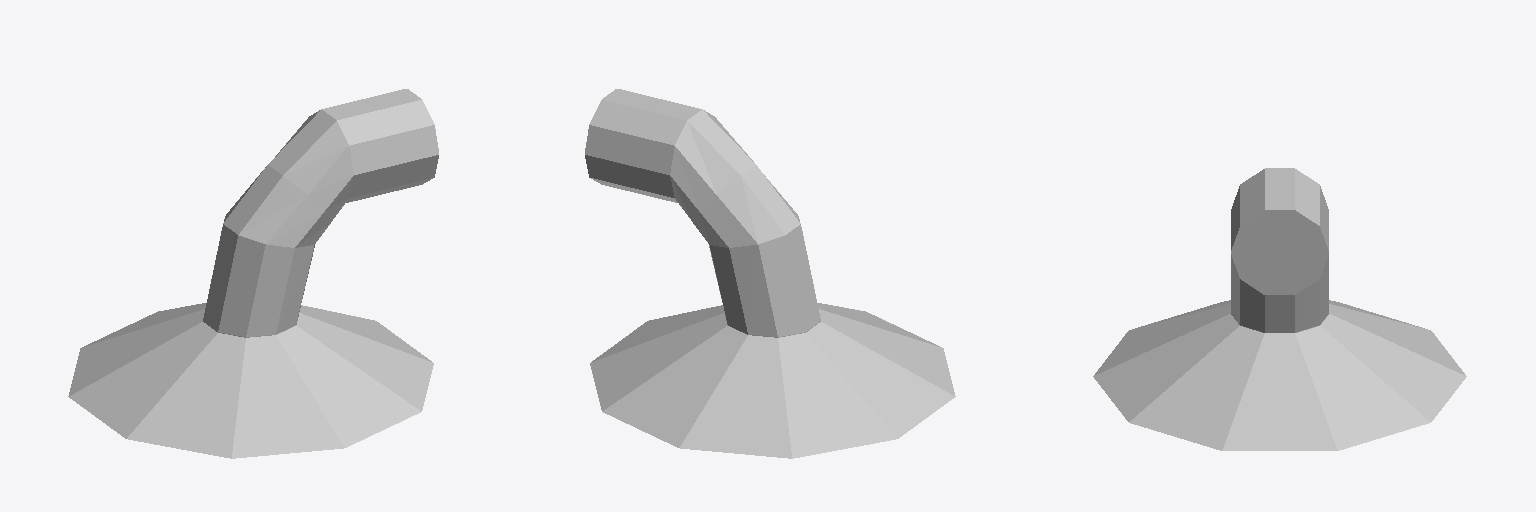
File: showerhead.obj
3 renders of one model, left to right at view 1: azimuth 30°, elevation 25°; view 2: azimuth 150°, elevation 25°; view 3: azimuth 270°, elevation 25°, orthographic.
Parts seen in each view (by area): view 1: Cylinder_Cylinder.001; view 2: Cylinder_Cylinder.001; view 3: Cylinder_Cylinder.001.
Boxes of the visible parts, <box> form: Cylinder_Cylinder.001: <box>68,89,438,458</box>; Cylinder_Cylinder.001: <box>585,89,955,458</box>; Cylinder_Cylinder.001: <box>1093,168,1466,450</box>.
Bounding box in the file's own units: 0.3464 × 0.2571 × 0.3534.